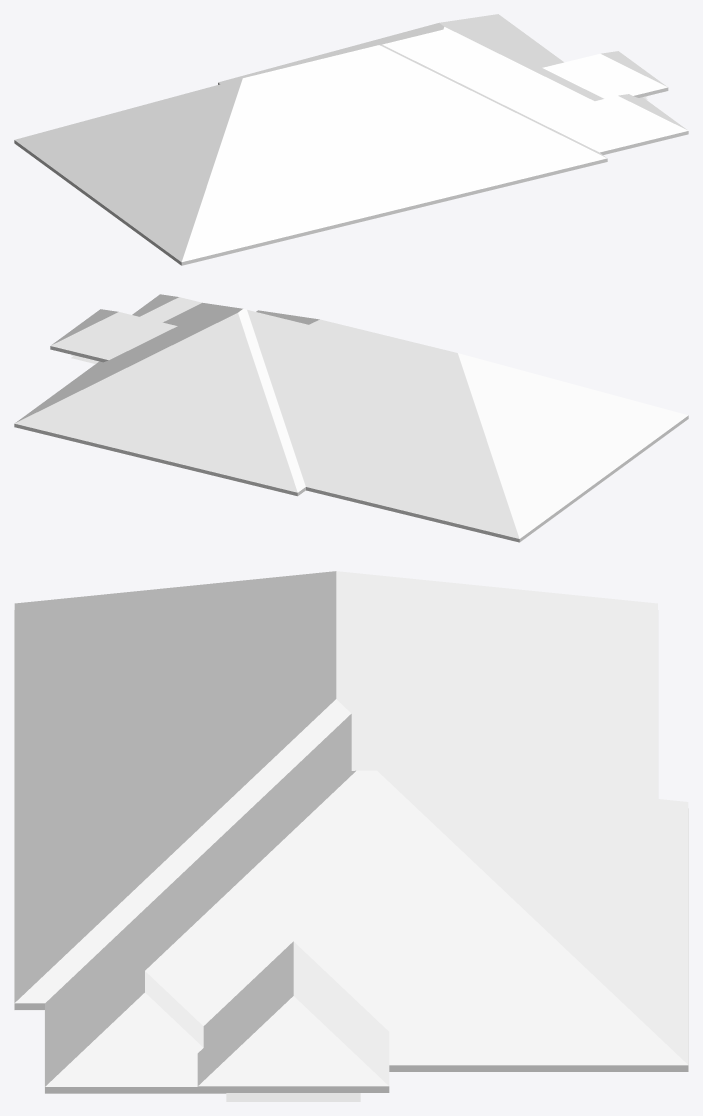
Rendered from Roof.obj.
3 renders of one model, top to bottom at view 1: azimuth 30°, elevation 25°; view 2: azimuth 150°, elevation 25°; view 3: azimuth 270°, elevation 25°, orthographic. The views are drawn at different scales.
Visible parts, largest first — view 1: Basic_Roof_Generic___125mm__366442_, Basic_Roof_Generic___125mm__369190_; view 2: Basic_Roof_Generic___125mm__366442_, Basic_Roof_Generic___125mm__369190_; view 3: Basic_Roof_Generic___125mm__366442_, Basic_Roof_Generic___125mm__369190_, Basic_Ceiling_Generic__370832_.
Boxes of the visible parts, box(x1,y1,x2,y2) form: Basic_Roof_Generic___125mm__366442_: box(14, 14, 688, 265); Basic_Roof_Generic___125mm__369190_: box(542, 51, 668, 98); Basic_Roof_Generic___125mm__366442_: box(14, 294, 688, 542); Basic_Roof_Generic___125mm__369190_: box(50, 309, 177, 362); Basic_Roof_Generic___125mm__366442_: box(14, 571, 688, 1093); Basic_Roof_Generic___125mm__369190_: box(197, 941, 389, 1092); Basic_Ceiling_Generic__370832_: box(14, 610, 688, 1093).
Size of the model in its own units: 23.25 by 3.83 by 13.22.
1 material, 1 textured.
